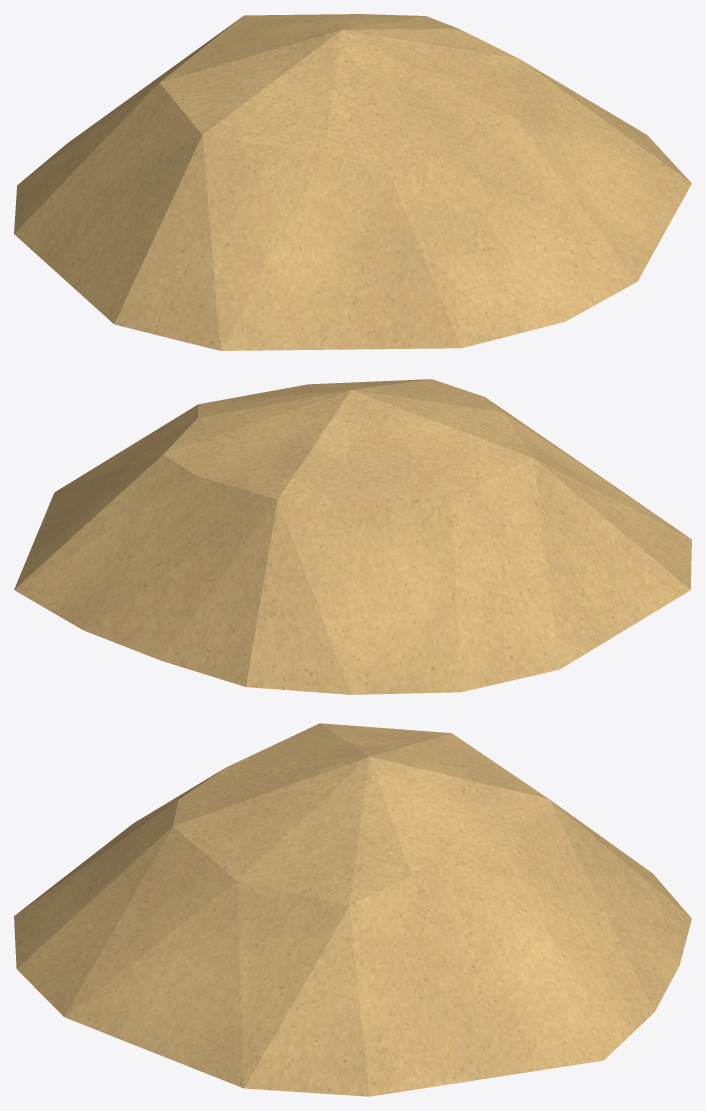
The model's file is sawdust_pile.glb.
The picture shows the model from 3 angles, top to bottom: view 1: azimuth 30°, elevation 25°; view 2: azimuth 150°, elevation 25°; view 3: azimuth 270°, elevation 25°; orthographic projection. The views are drawn at different scales.
Visible parts, largest first — view 1: sawdust_pile_sawdust; view 2: sawdust_pile_sawdust; view 3: sawdust_pile_sawdust.
Boxes of the visible parts, box(x1,y1,x2,y2) form: sawdust_pile_sawdust: box(14, 14, 691, 350); sawdust_pile_sawdust: box(14, 379, 691, 694); sawdust_pile_sawdust: box(14, 723, 691, 1096).
Bounding box in the file's own units: 3.8 × 1.1 × 3.64.
Materials: 1 (1 with a texture image).
